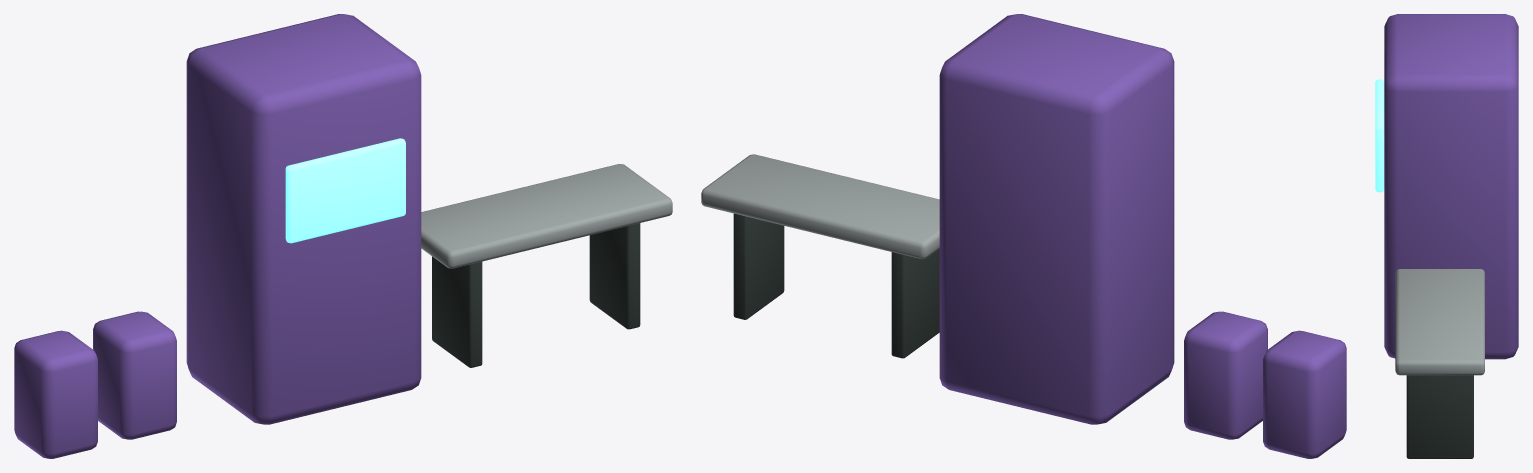
File: neon-props.glb
The picture shows the model from 3 angles, left to right: view 1: azimuth 30°, elevation 25°; view 2: azimuth 150°, elevation 25°; view 3: azimuth 270°, elevation 25°; orthographic projection. The views are drawn at different scales.
Parts seen in each view (by area): view 1: power_cell, tool_bench, service_screen, bench_leg; view 2: power_cell, tool_bench, bench_leg; view 3: power_cell, tool_bench, bench_leg, service_screen.
Part boxes in pixels (x1,y1,x2,y2): power_cell: [14, 14, 421, 458]; tool_bench: [421, 164, 672, 268]; service_screen: [285, 138, 405, 243]; bench_leg: [432, 223, 640, 367]; power_cell: [939, 14, 1346, 458]; tool_bench: [701, 154, 939, 259]; bench_leg: [733, 213, 939, 358]; power_cell: [1384, 14, 1518, 359]; tool_bench: [1395, 269, 1484, 375]; bench_leg: [1406, 375, 1473, 458]; service_screen: [1375, 79, 1384, 192].
Bounding box in the file's own units: 5.45 × 2.8 × 1.28.
